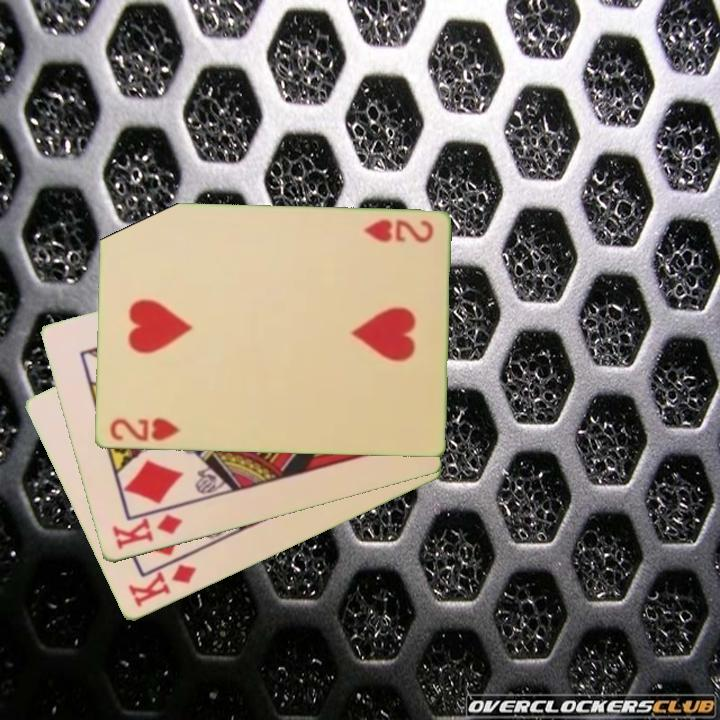2h: (360, 216, 435, 247), (106, 415, 183, 444)
Kd: (124, 561, 199, 611), (108, 511, 186, 553)
